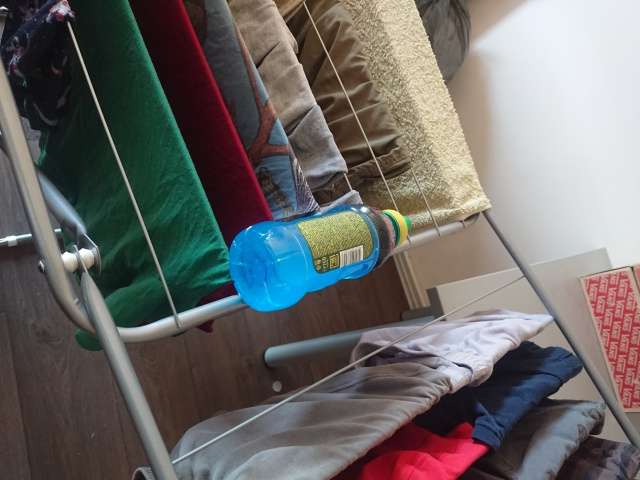Vindi Iso Sport Forest Strawberries 500mL: (226, 203, 412, 314)
